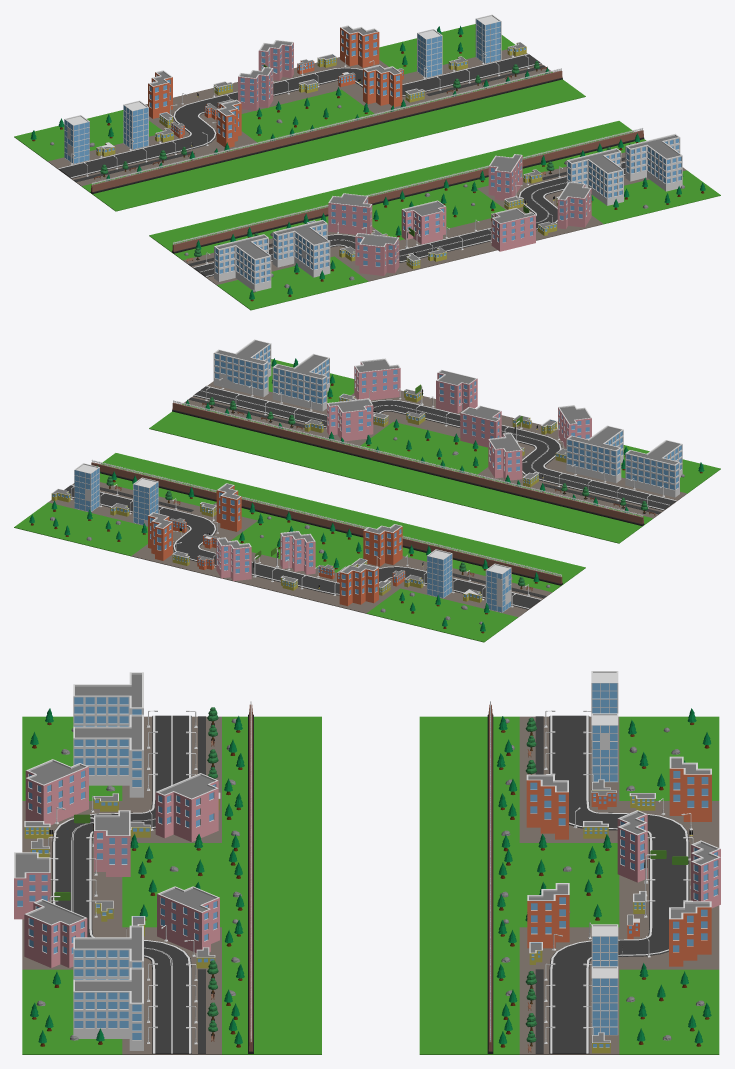
File: streets_background.fbx
The picture shows the model from 3 angles, top to bottom: view 1: azimuth 30°, elevation 25°; view 2: azimuth 150°, elevation 25°; view 3: azimuth 270°, elevation 25°; orthographic projection. The views are drawn at different scales.
Parts seen in each view (by area): view 1: middle, business, wall2, wall1; view 2: business, middle, wall1, wall2; view 3: business, middle, wall2, wall1.
Part boxes in pixels (x1=…): middle: x1=14, y1=14, x2=585, y2=211; business: x1=149, y1=121, x2=720, y2=310; wall2: x1=90, y1=68, x2=562, y2=193; wall1: x1=172, y1=128, x2=644, y2=253; business: x1=149, y1=339, x2=720, y2=543; middle: x1=14, y1=453, x2=585, y2=642; wall1: x1=172, y1=400, x2=644, y2=525; wall2: x1=91, y1=460, x2=562, y2=585; business: x1=14, y1=672, x2=321, y2=1054; middle: x1=419, y1=671, x2=720, y2=1054; wall2: x1=487, y1=701, x2=493, y2=1053; wall1: x1=248, y1=701, x2=253, y2=1053.
Size of the model in its own units: 4000 by 320 by 3541.
